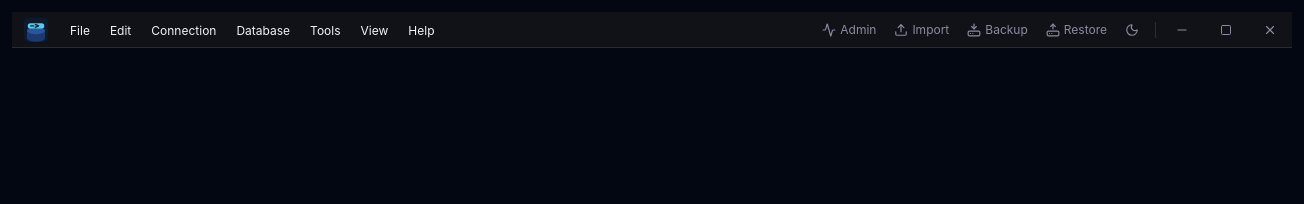
Scenario: TitleBar › system menu dismisses itself after action
The image size is (1304, 204).
Right-click the element that starts with "File" at (652, 30), box x1=12 y1=12 x2=1292 y2=48
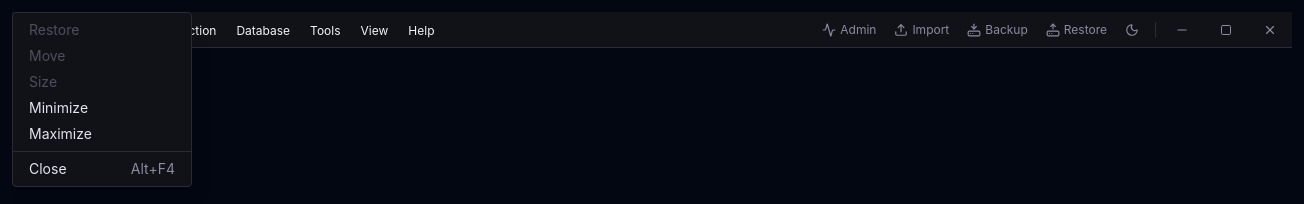
Expected: the text "Close" is shown
Click the text "Close" at (48, 169), box x1=29 y1=159 x2=67 y2=179
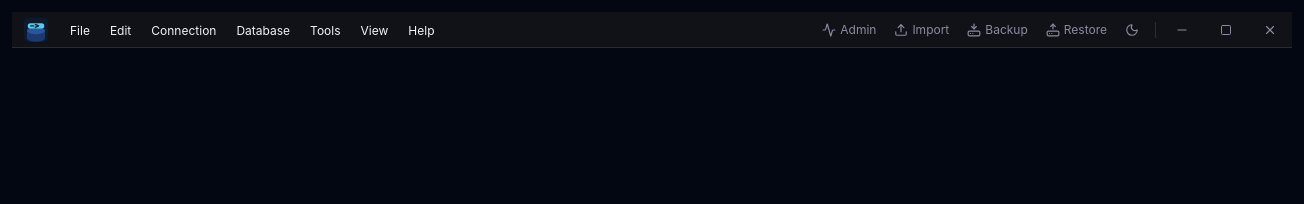
Expected: the button "Close" is gone
